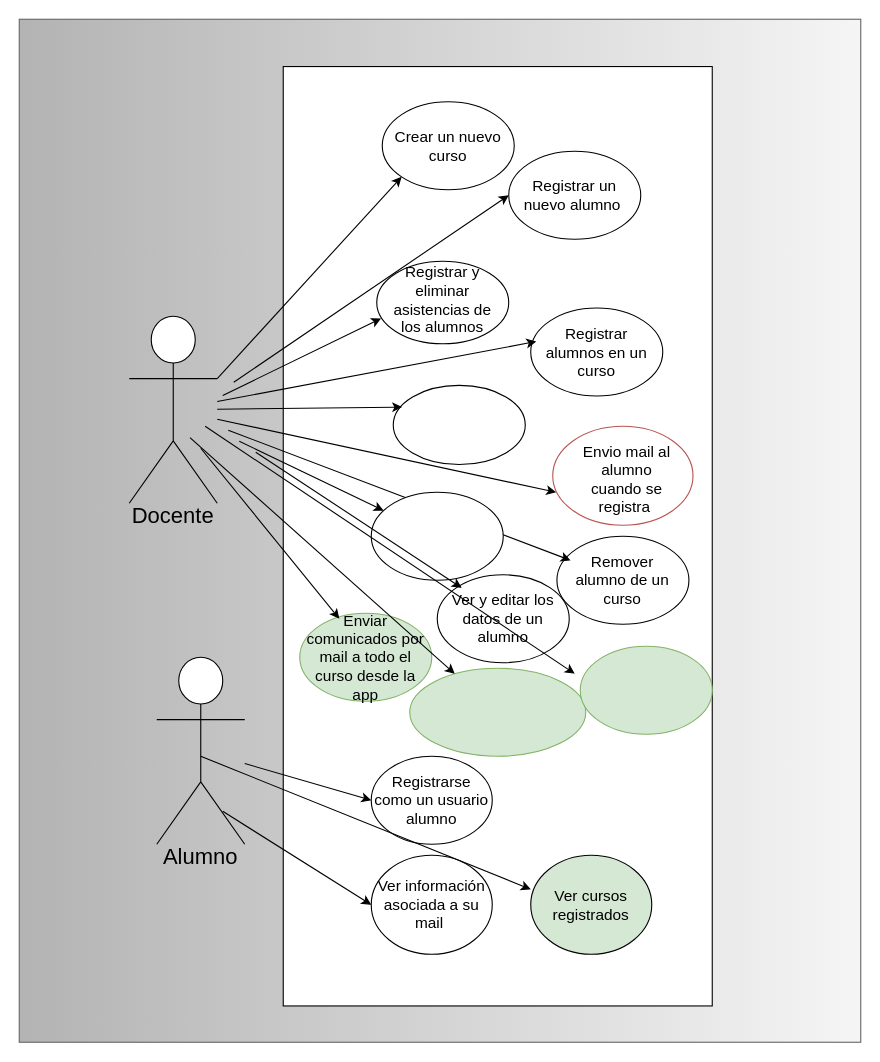
This 880x1062 diagram has some shape labels left out. Each missing label, with the centre of its shape:
"Agendar eventos y registrarlos en google calendar para todo el curso" belongs at pixel 497 711.
"Crear comunicaciones para un curso" belongs at pixel 436 535.
"Enviar mail al alumno cuando se lo quita de un curso" belongs at pixel 645 689.
"Registrarse como un usuario docente" belongs at pixel 458 424.
